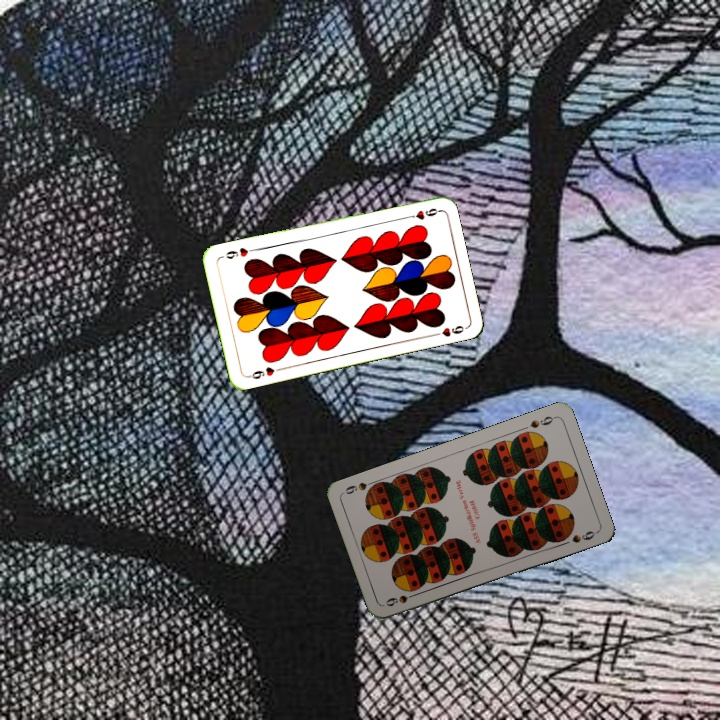H9: (244, 363, 284, 382), (401, 204, 441, 222)
S9: (382, 589, 421, 609), (526, 412, 558, 431)
